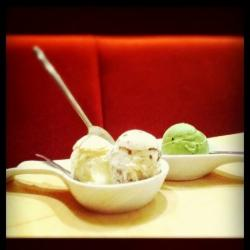icecream: (69, 131, 163, 193), (158, 119, 208, 168)
